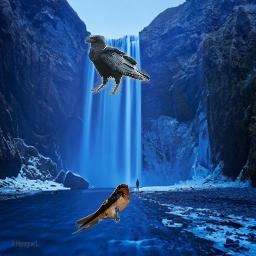Crow: (84, 35, 150, 95)
Swallow: (69, 184, 130, 234)
